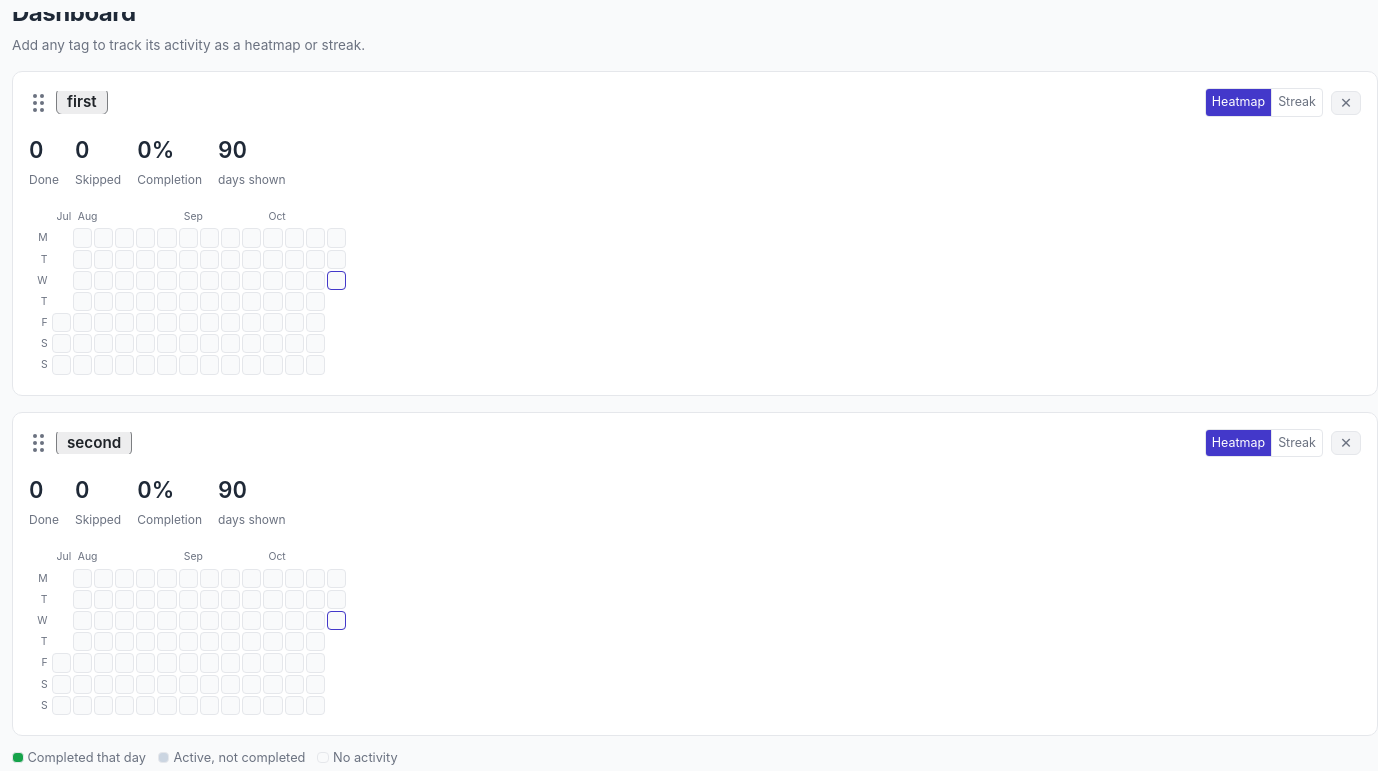
DashboardView — tag order › surfaces reorder failures
(page scrolled)
Step 1. Press the mouse on the button named "drag to reorder second" → (38, 443), box [29, 430, 48, 456]
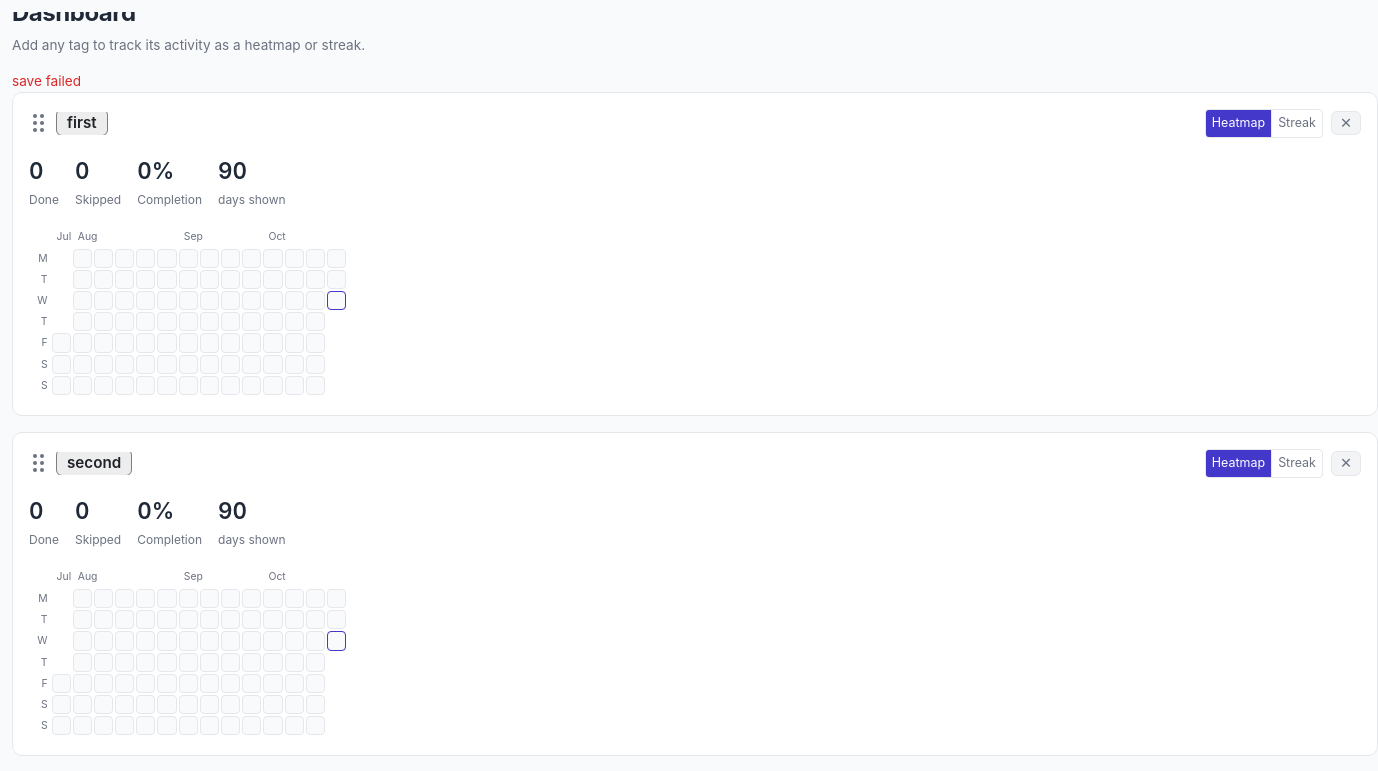
Check: the message "save failed" is shown, box [12, 73, 81, 89]
